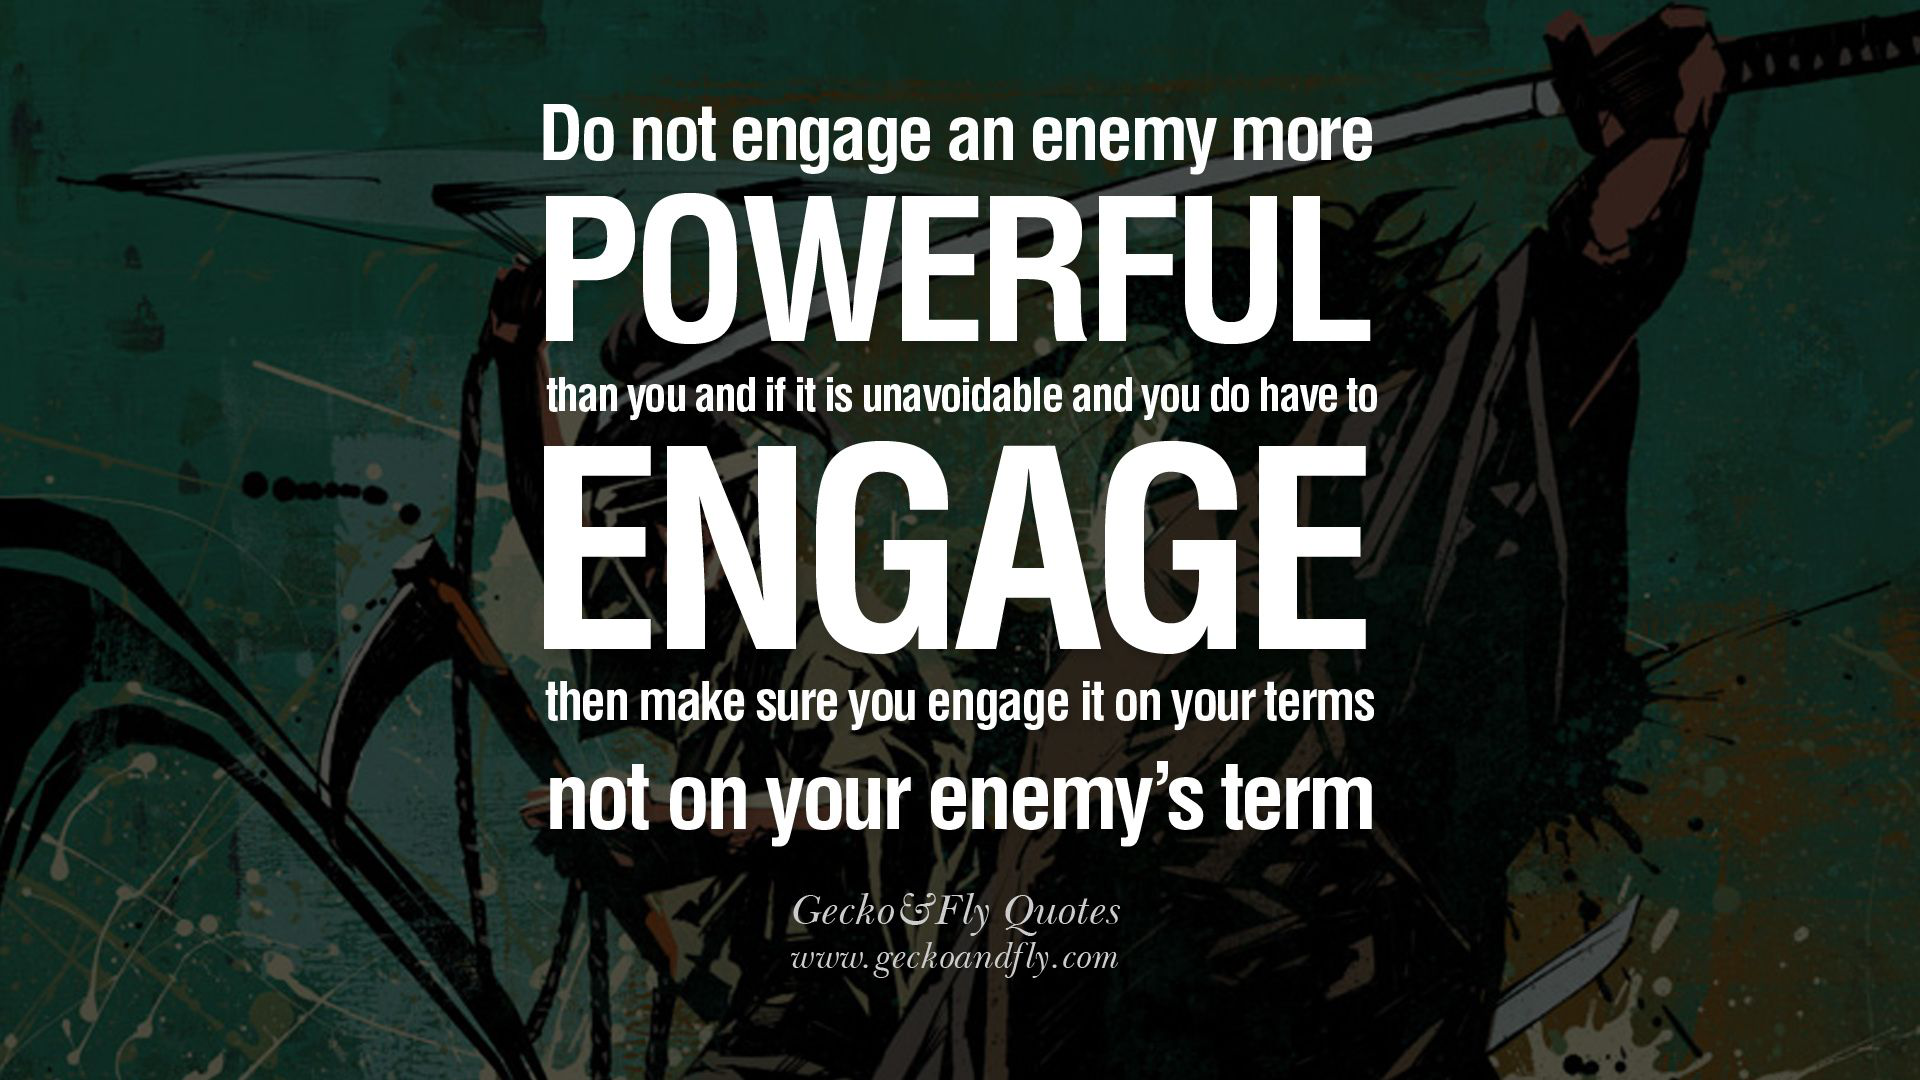latin: (537, 442, 1378, 653), (539, 189, 1386, 349), (545, 756, 1393, 849), (539, 102, 1393, 179), (543, 678, 1382, 738), (541, 373, 1385, 419)
